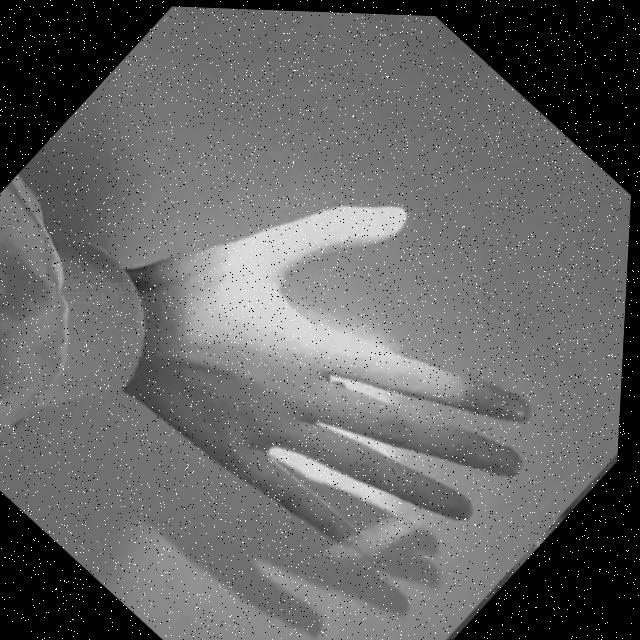no-gloves: (95, 118, 618, 630)
